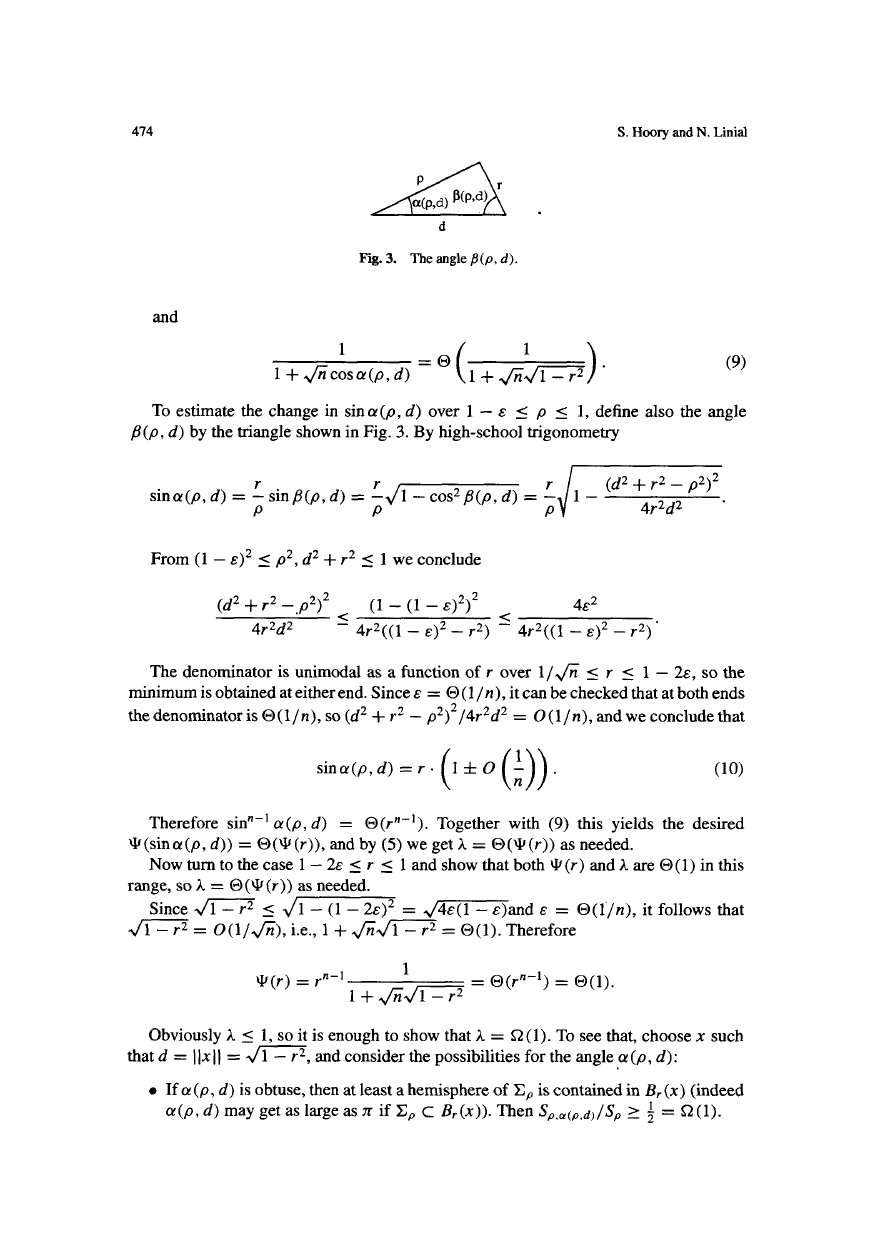figure: (370, 161, 540, 230)
formula: (150, 464, 724, 518), (272, 340, 745, 386), (215, 591, 657, 640), (317, 747, 742, 791), (256, 961, 613, 1006)
